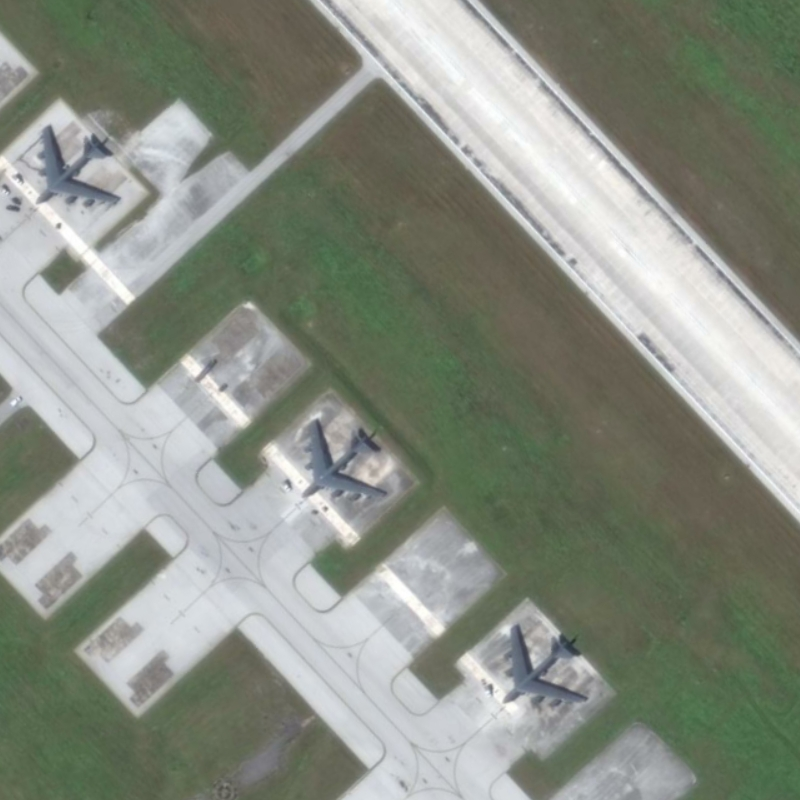A8: (498, 620, 594, 715), (298, 412, 391, 506), (33, 118, 124, 213)
